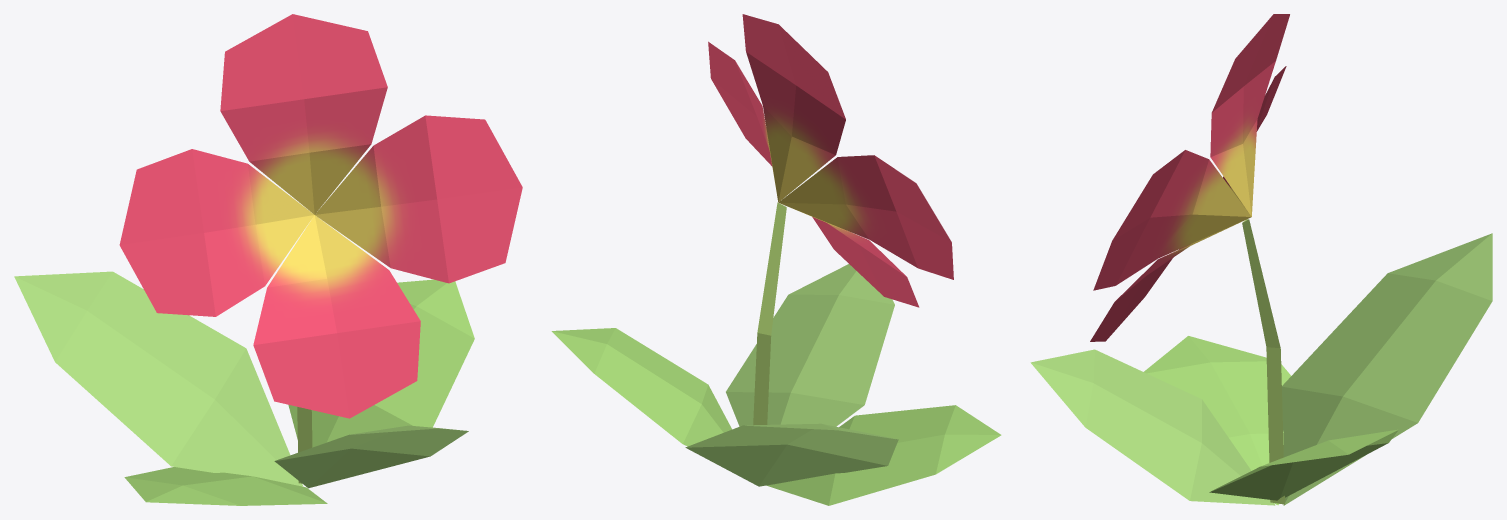
The model's file is Flower_c_TwoS_11.fbx.
The picture shows the model from 3 angles, left to right: view 1: azimuth 30°, elevation 25°; view 2: azimuth 150°, elevation 25°; view 3: azimuth 270°, elevation 25°; orthographic projection. The views are drawn at different scales.
Parts seen in each view (by area): view 1: Flower_c_TwoS_11; view 2: Flower_c_TwoS_11; view 3: Flower_c_TwoS_11.
Boxes of the visible parts, x1=… form: Flower_c_TwoS_11: x1=14, y1=14, x2=522, y2=505; Flower_c_TwoS_11: x1=551, y1=14, x2=1001, y2=505; Flower_c_TwoS_11: x1=1030, y1=14, x2=1492, y2=505.
Bounding box in the file's own units: 35.15 × 41.58 × 35.95.
